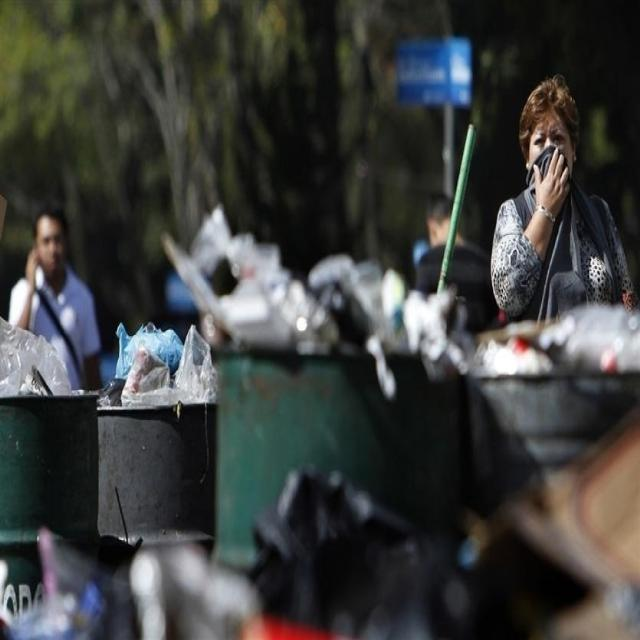can: (0, 382, 640, 590)
